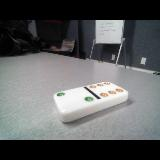domino: (53, 82, 128, 122)
